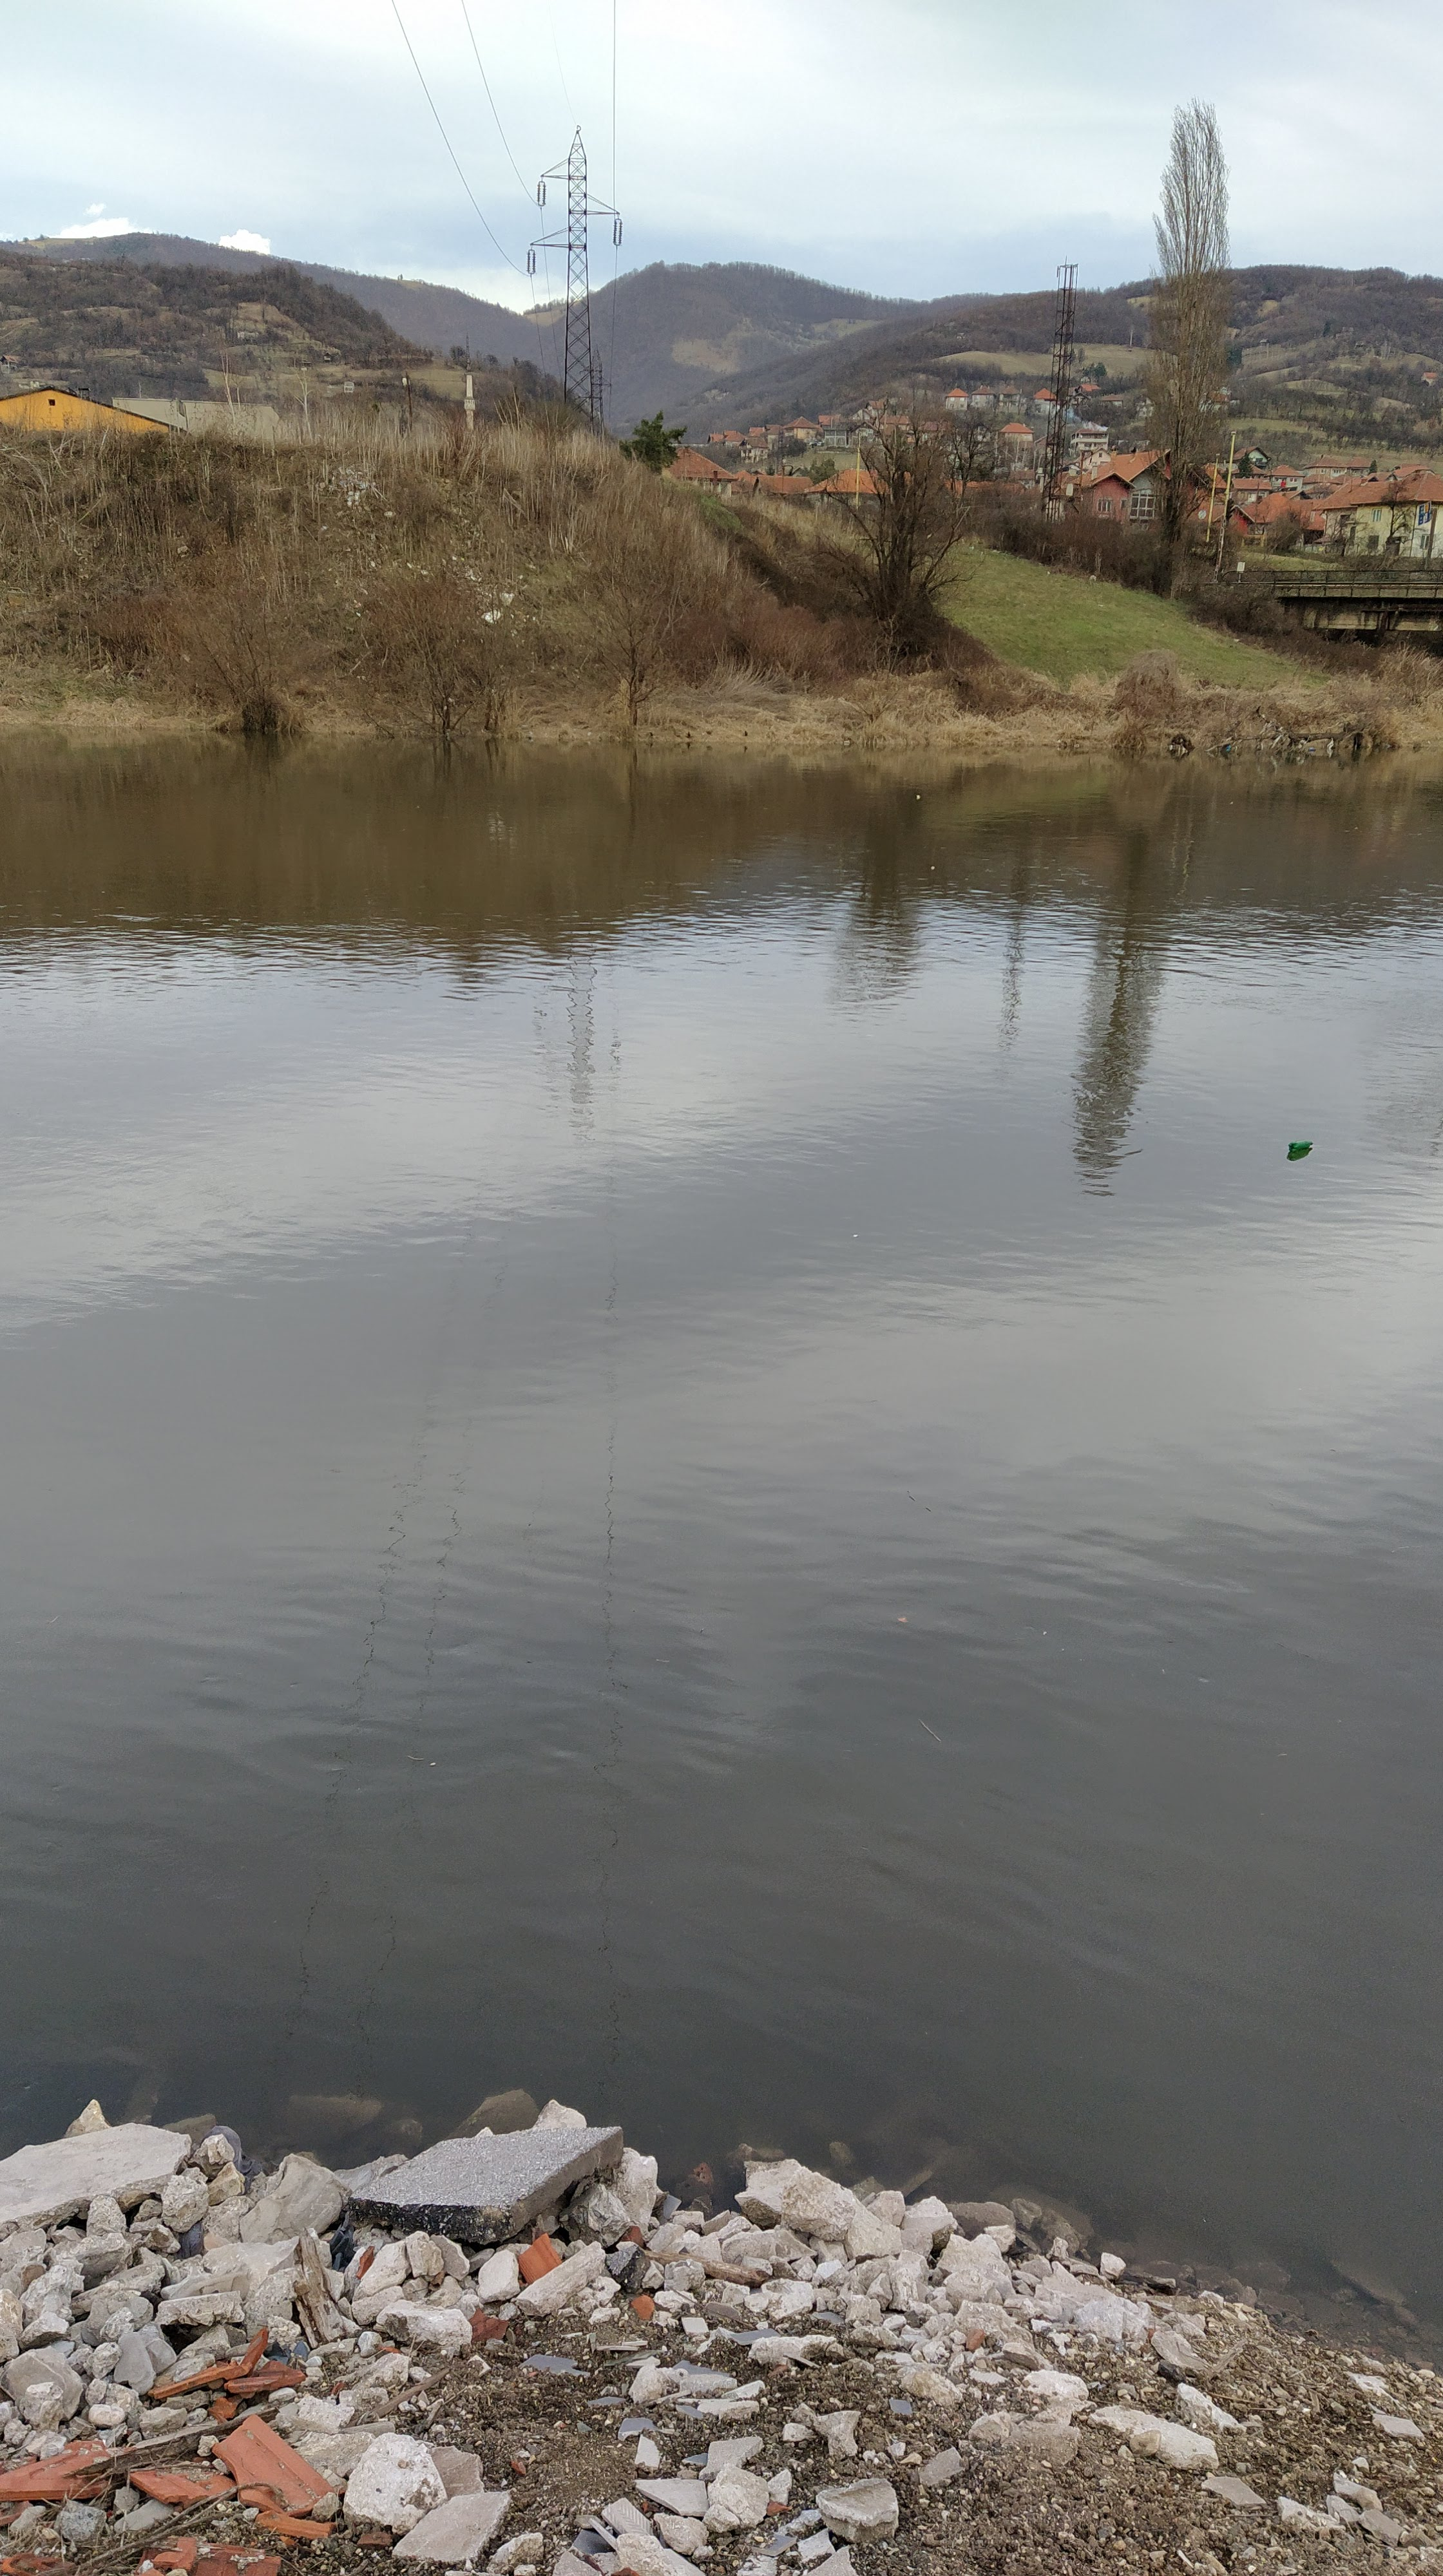Plastic Bottle: (1287, 1141, 1314, 1154), (1308, 747, 1316, 750), (845, 740, 850, 743), (1227, 747, 1231, 750)
